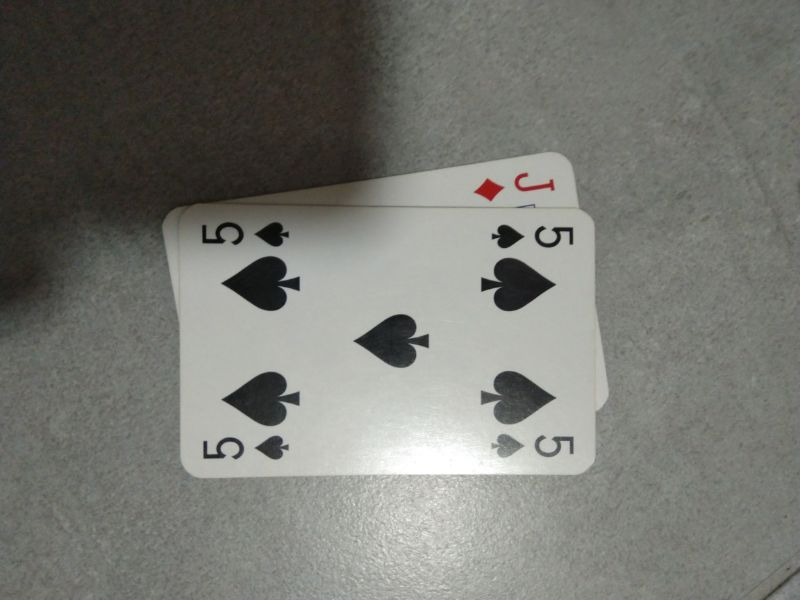5s: (196, 216, 293, 250), (197, 432, 292, 464), (486, 219, 577, 252), (485, 430, 578, 461)
Jd: (469, 164, 561, 206)
